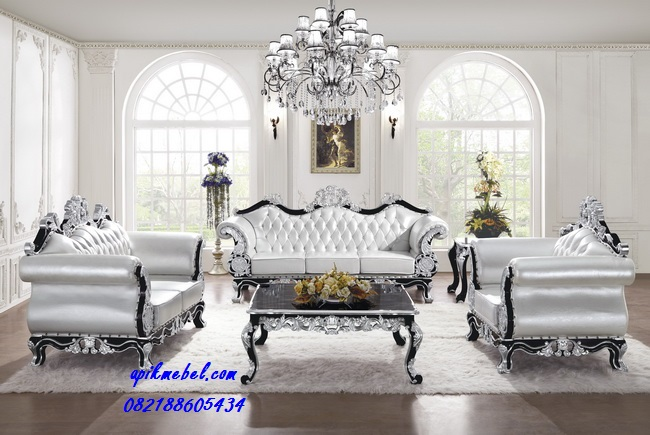Carving Chair: (17, 199, 212, 361), (466, 217, 629, 374), (216, 195, 453, 302)
Carving Table: (247, 278, 419, 386)
